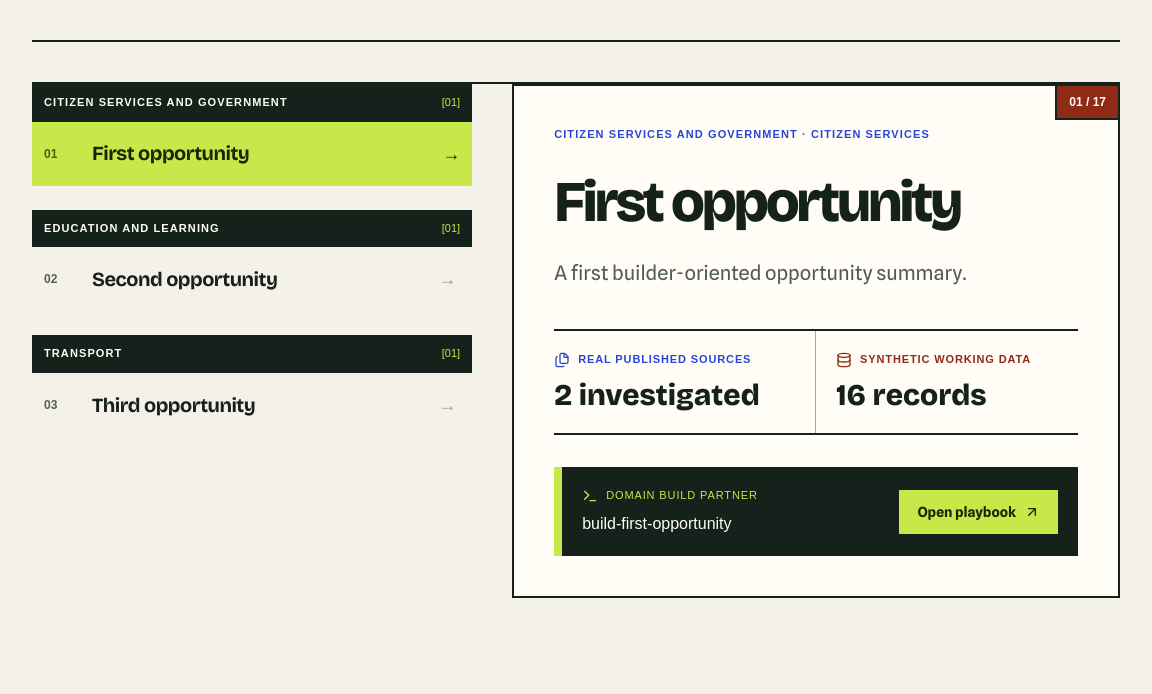
Scenario: OpportunityAtlas › previews opportunities on pointer enter and activation
(page scrolled)
Hover over the button "03 Third opportunity →".
mouse_move(252, 405)  # box left=32, top=373, right=472, bottom=437
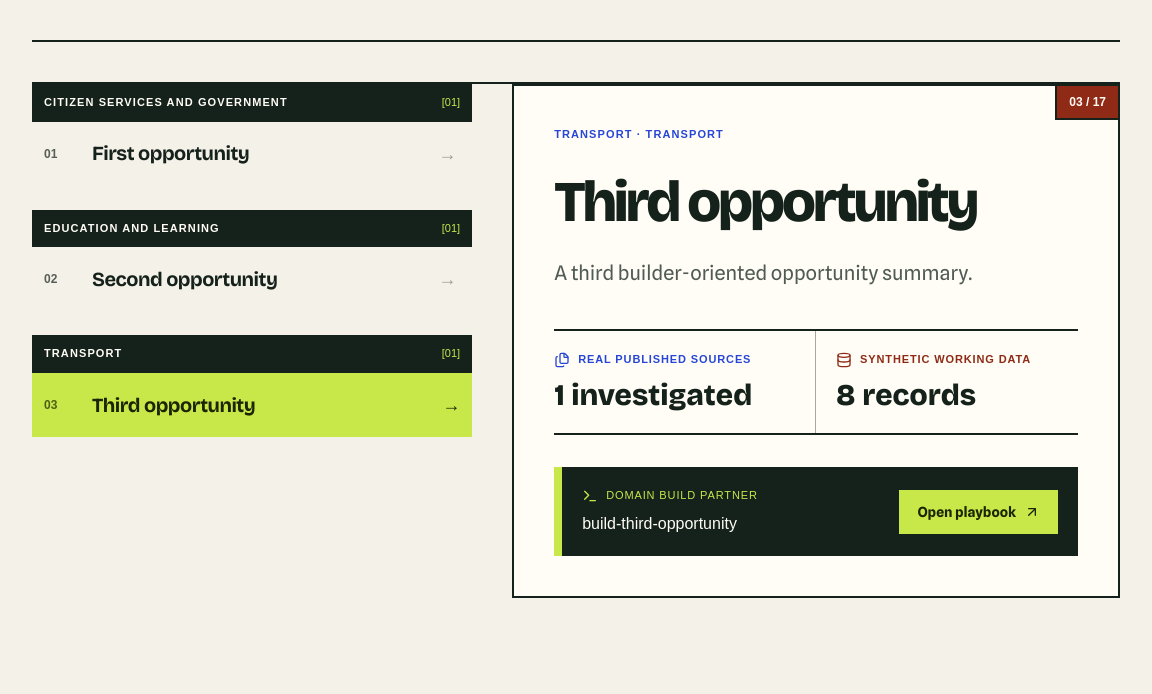
Expected: the text "A third builder-oriented opportunity summary." is shown, left=554, top=261, right=972, bottom=285
Click the button "01 First opportunity →".
click(252, 154)  # box left=32, top=122, right=472, bottom=186
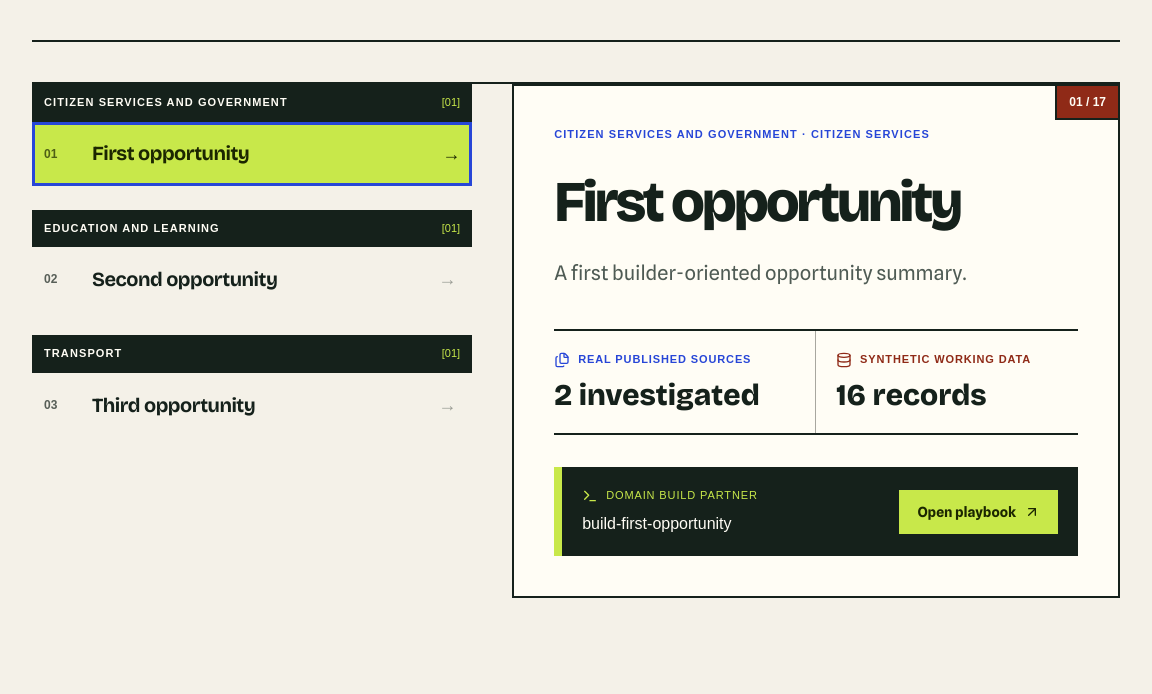
Expected: the text "A first builder-oriented opportunity summary." is shown, left=554, top=261, right=967, bottom=285
